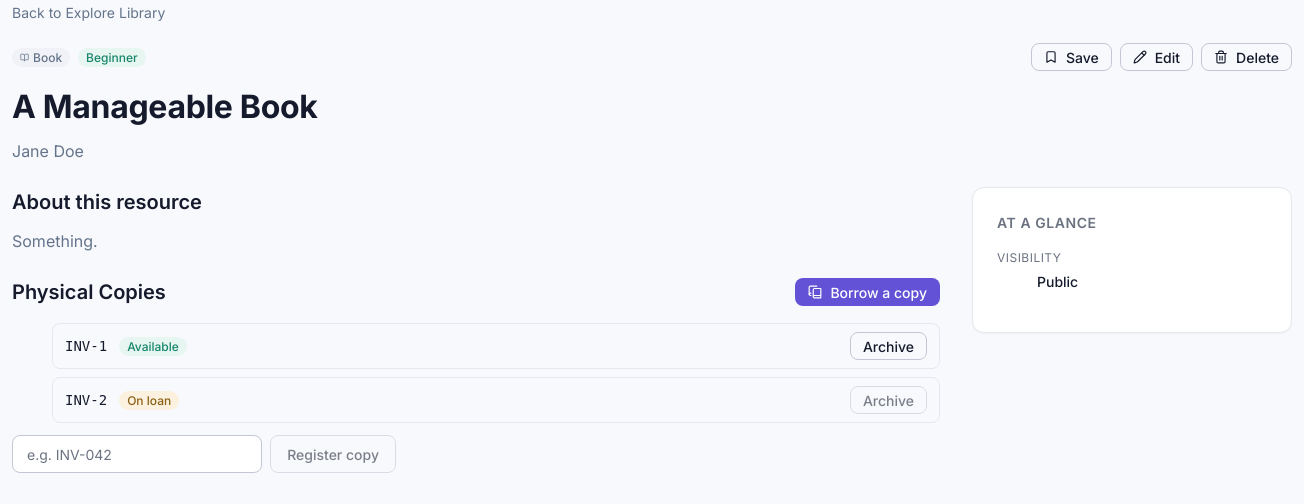
Test: ResourceDetailsPage › physical copies (Task 07) › an ADMIN can archive an AVAILABLE copy, but not an ON_LOAN one
The width and height of the screenshot is (1304, 504).
Expected: the text "INV-1" is shown, [65,336,107,356]
Expected: the button "Archive" in the row of "INV-2" is disabled, [850,386,927,414]
Click the button "Archive" in the row of "INV-1": point(888, 346) [850,332,927,360]
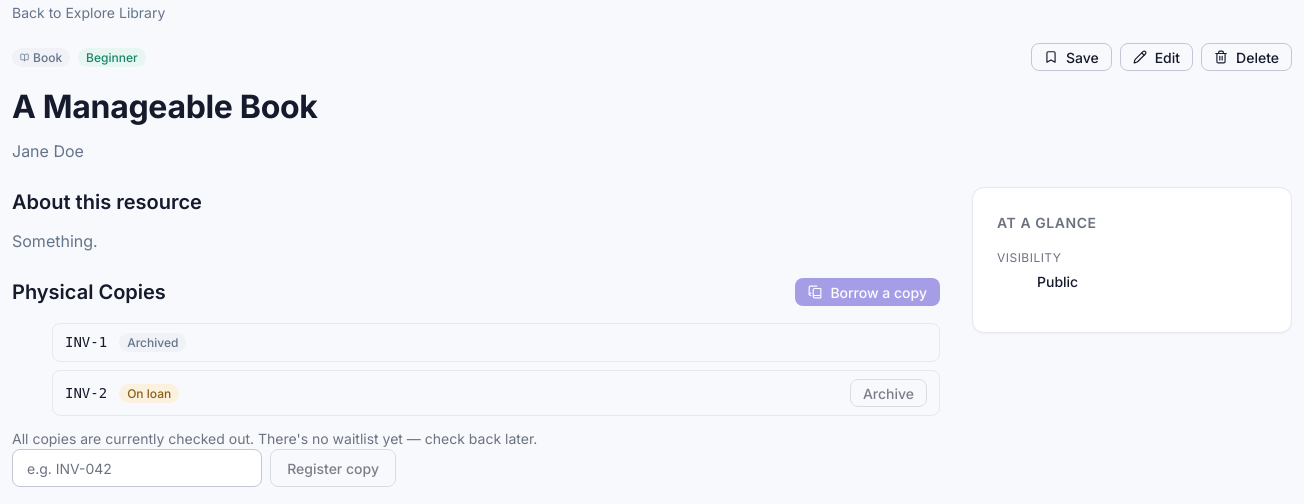
Now the text "Archived" is shown, box [119,333,186,352]
